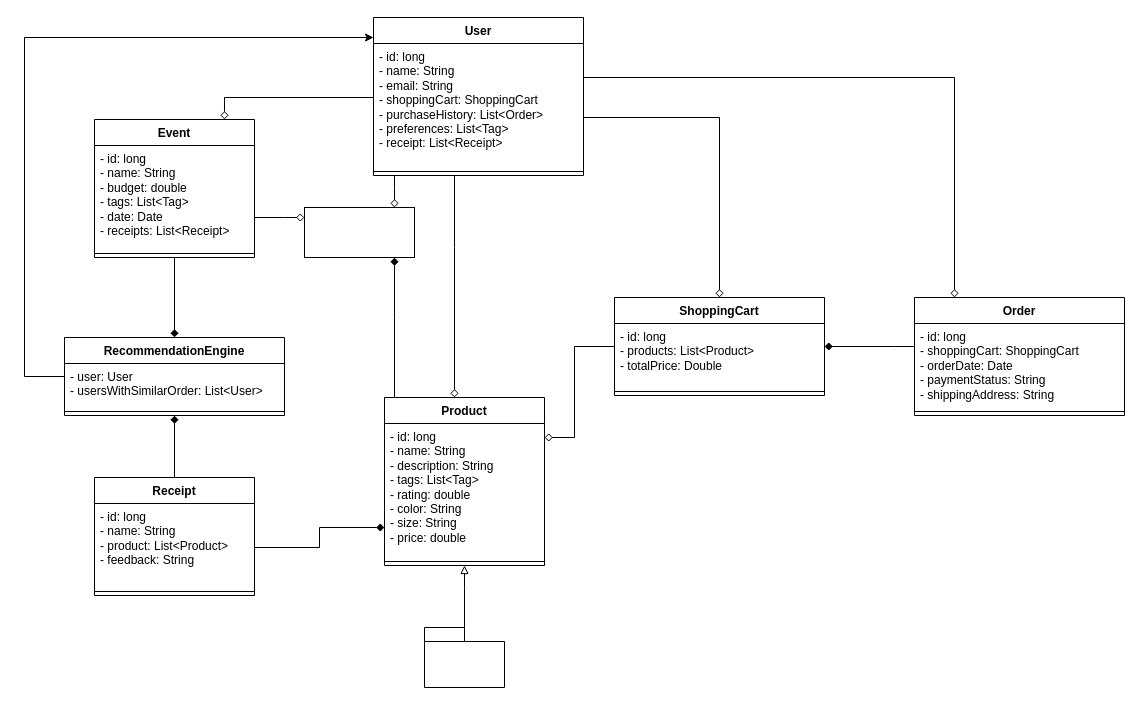
The diagram is 1142 pixels wide and 705 high, and some of its shapes have lost their labels. The centre of each missing label's shape, as x and y in pixels:
"Clothes" goes at [464,657].
"«Enum» Tag" goes at [359,232].
